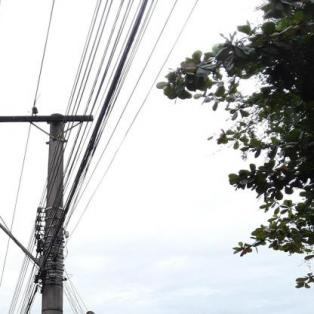Poste: (23, 111, 74, 314)
